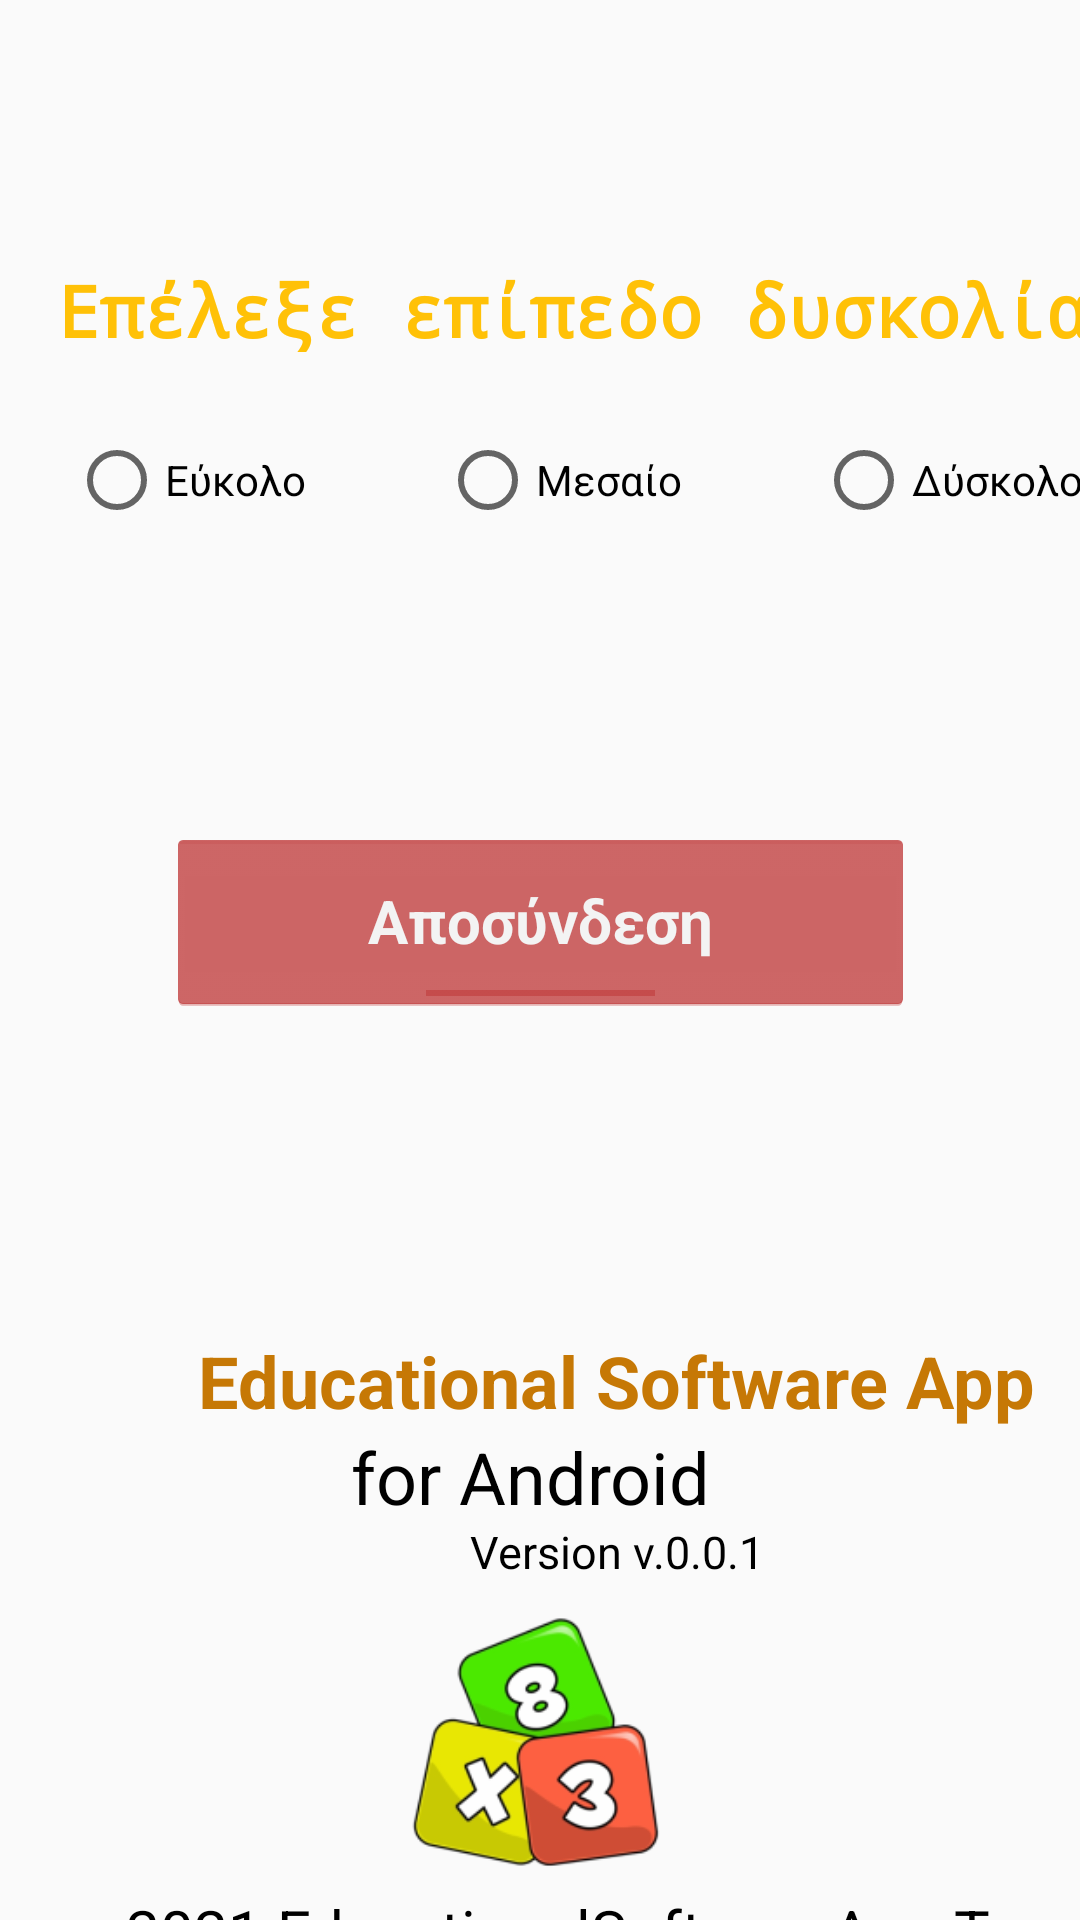

Named icons in this screenshot (1080 x 1920) and their centers, [x,y]:
application photo: [536,1742]
